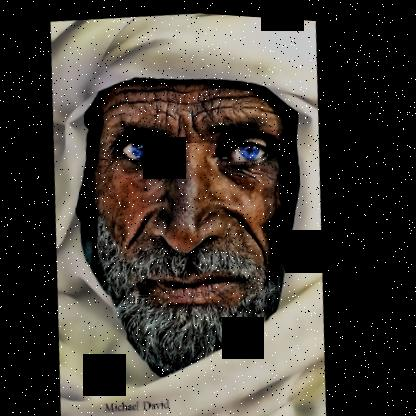Male: (68, 60, 324, 387)
